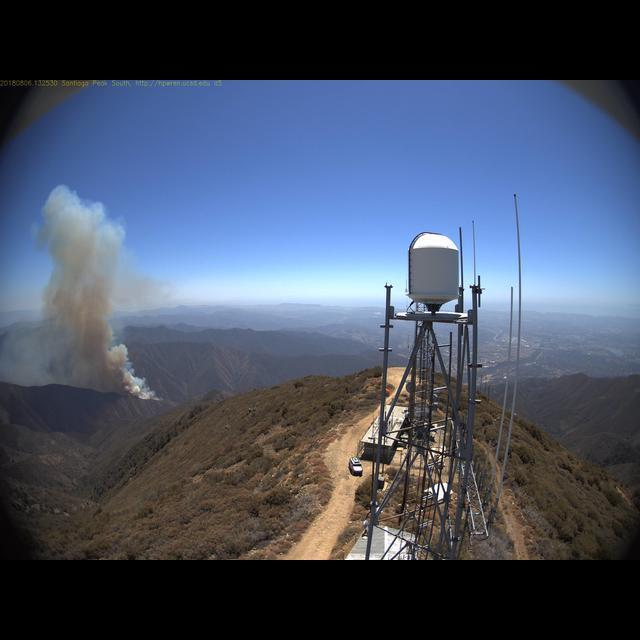Smoke: (30, 180, 157, 404)
